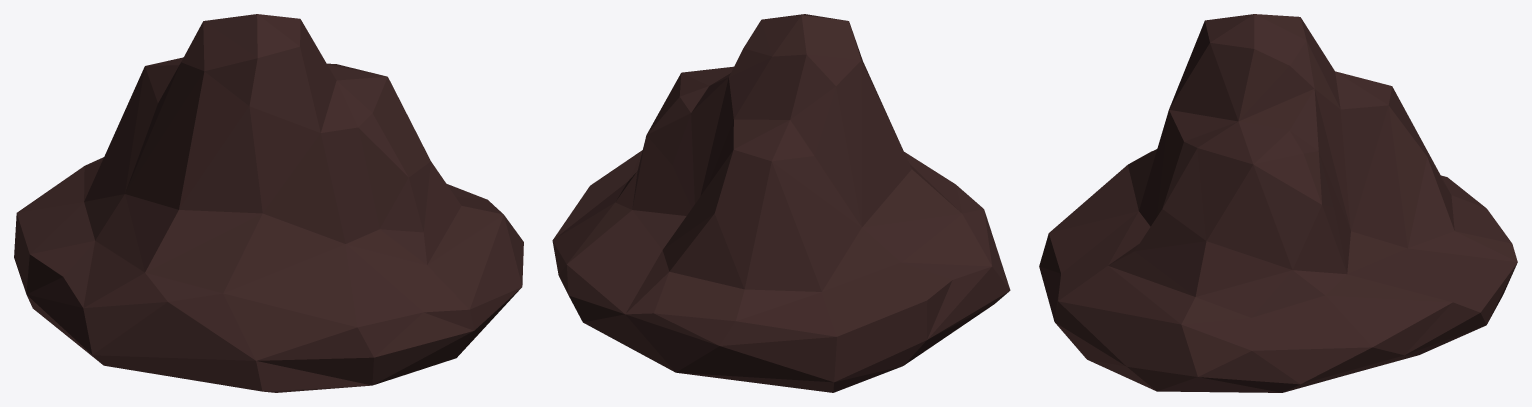
File: golderOre3-0.fbx
The picture shows the model from 3 angles, left to right: view 1: azimuth 30°, elevation 25°; view 2: azimuth 150°, elevation 25°; view 3: azimuth 270°, elevation 25°; orthographic projection. The views are drawn at different scales.
Visible parts, largest first — view 1: Cube; view 2: Cube; view 3: Cube.
Part boxes in pixels (x1,y1,x2,y2): Cube: (14,14,523,392); Cube: (552,14,1010,392); Cube: (1039,14,1517,392).
Bounding box in the file's own units: 252 × 174 × 253.
